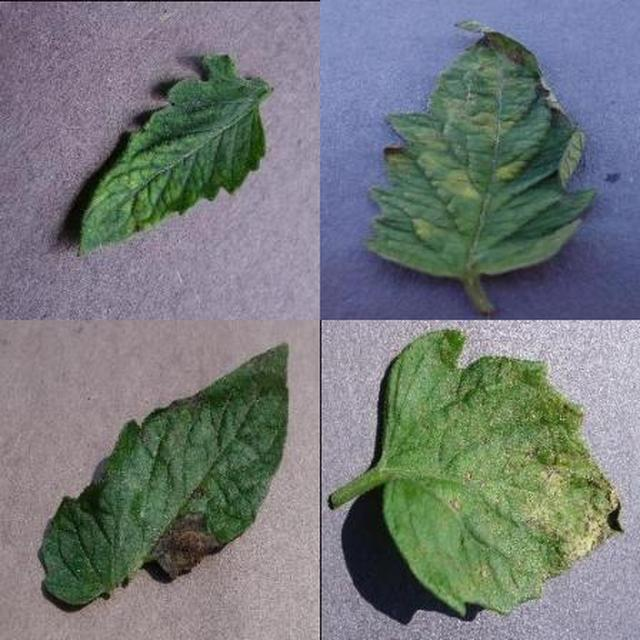Mosaic Virus Leaf: (236, 211, 640, 640)
